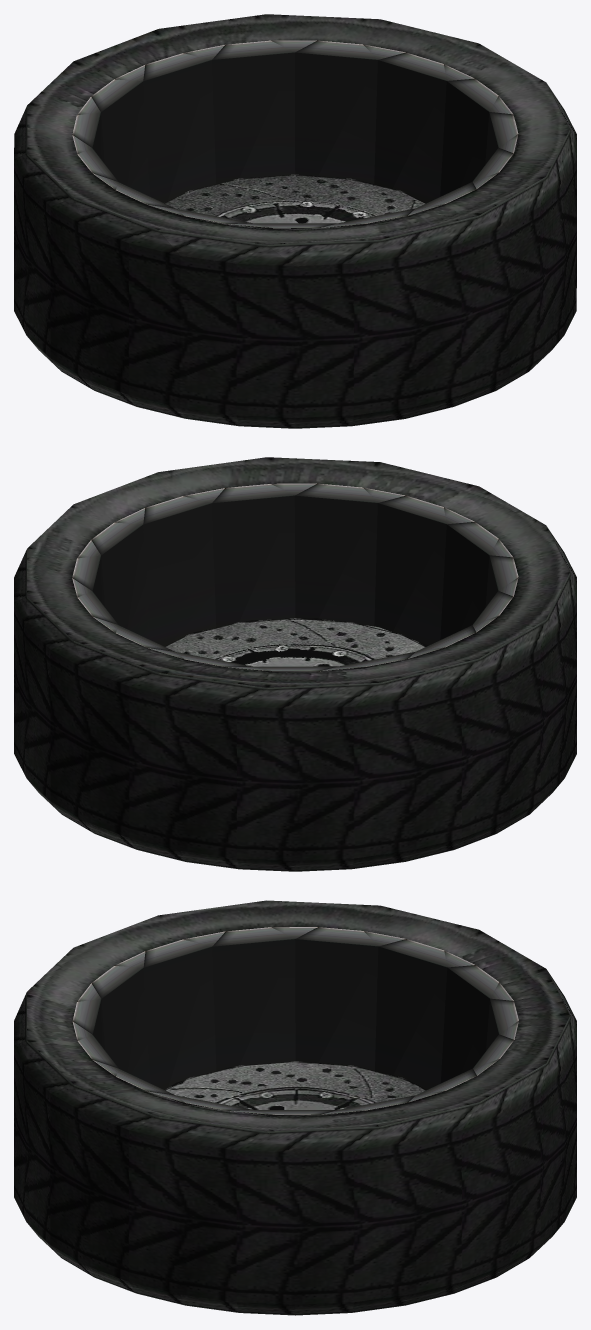
The model's file is front_left_wheel.obj.
The picture shows the model from 3 angles, top to bottom: view 1: azimuth 30°, elevation 25°; view 2: azimuth 150°, elevation 25°; view 3: azimuth 270°, elevation 25°; orthographic projection.
Visible parts, largest first — view 1: tyre.002_tyre.004; view 2: tyre.002_tyre.004; view 3: tyre.002_tyre.004.
Boxes of the visible parts, box(x1,y1,x2,y2) form: tyre.002_tyre.004: box(14, 14, 576, 428); tyre.002_tyre.004: box(14, 457, 576, 871); tyre.002_tyre.004: box(14, 900, 576, 1315).
Size of the model in its own units: 2.79 by 1.04 by 2.77.
